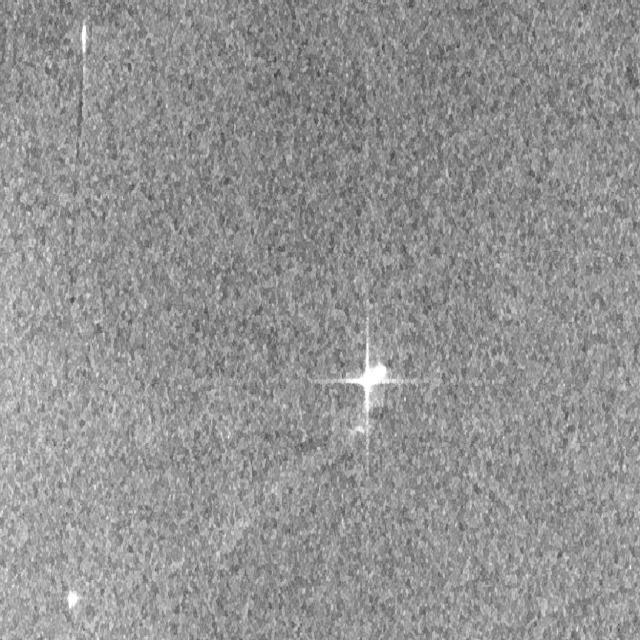ship: (333, 327, 409, 474), (64, 580, 83, 617), (73, 20, 90, 58)
